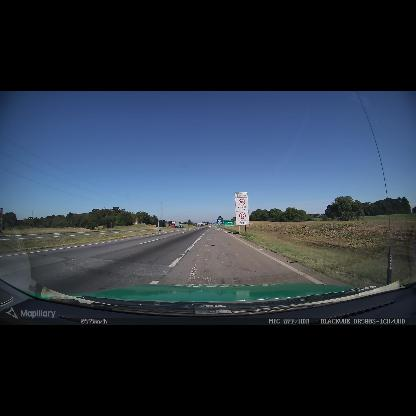I-SA: (235, 192, 248, 197)
R-19: (235, 197, 249, 225)
